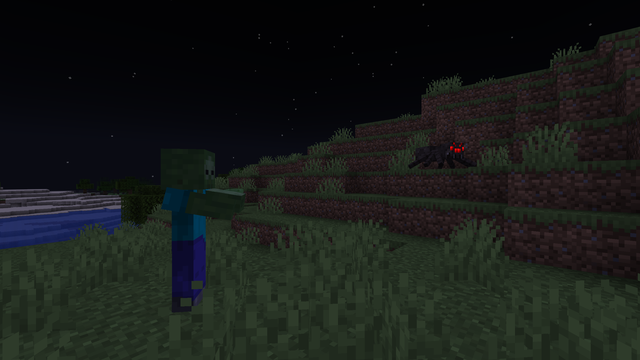araignees: (413, 138, 467, 169)
slimes: (229, 188, 245, 204)
zombies: (156, 151, 222, 319)
